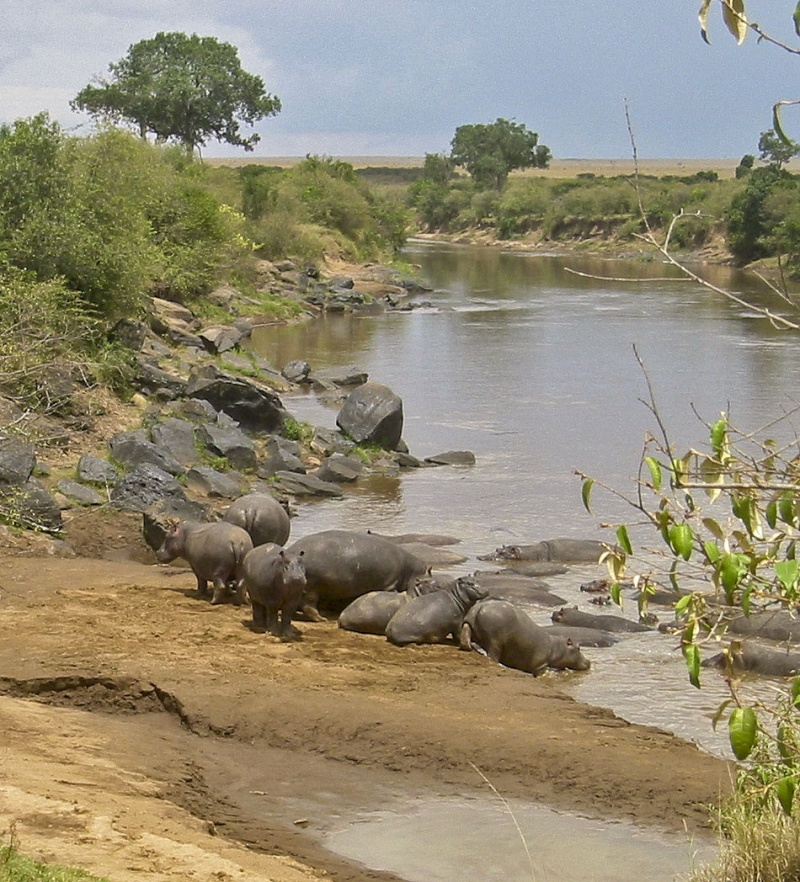hipopotamo: (473, 595, 598, 686), (138, 512, 257, 605), (383, 570, 489, 656), (467, 529, 638, 576), (238, 544, 309, 638), (217, 490, 301, 548)
